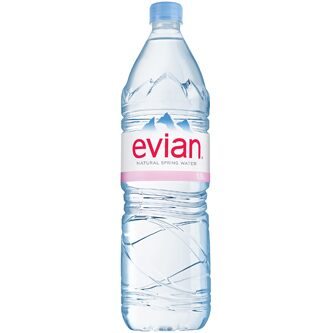PlasticBottle: (119, 3, 214, 329)
